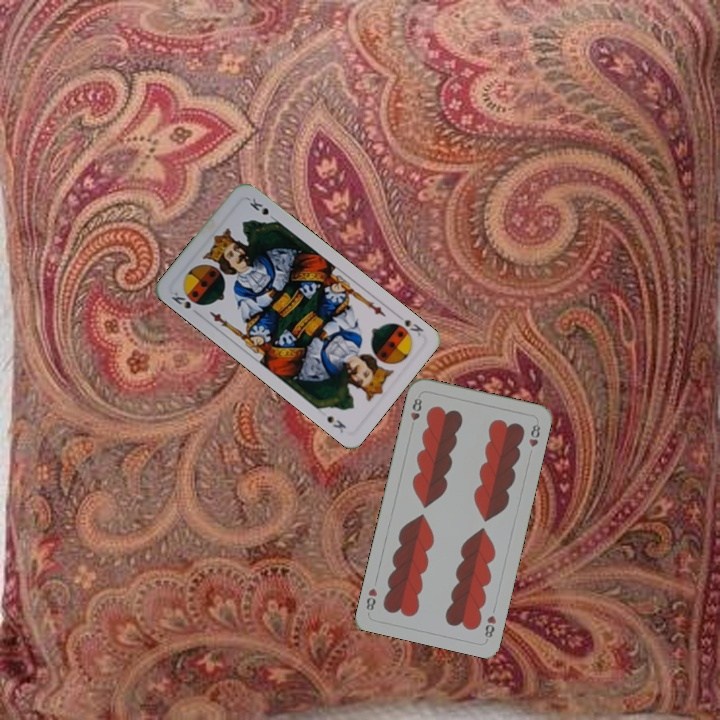H8: (481, 611, 499, 642), (406, 394, 425, 423)
SK: (389, 310, 426, 340), (167, 288, 194, 311)
